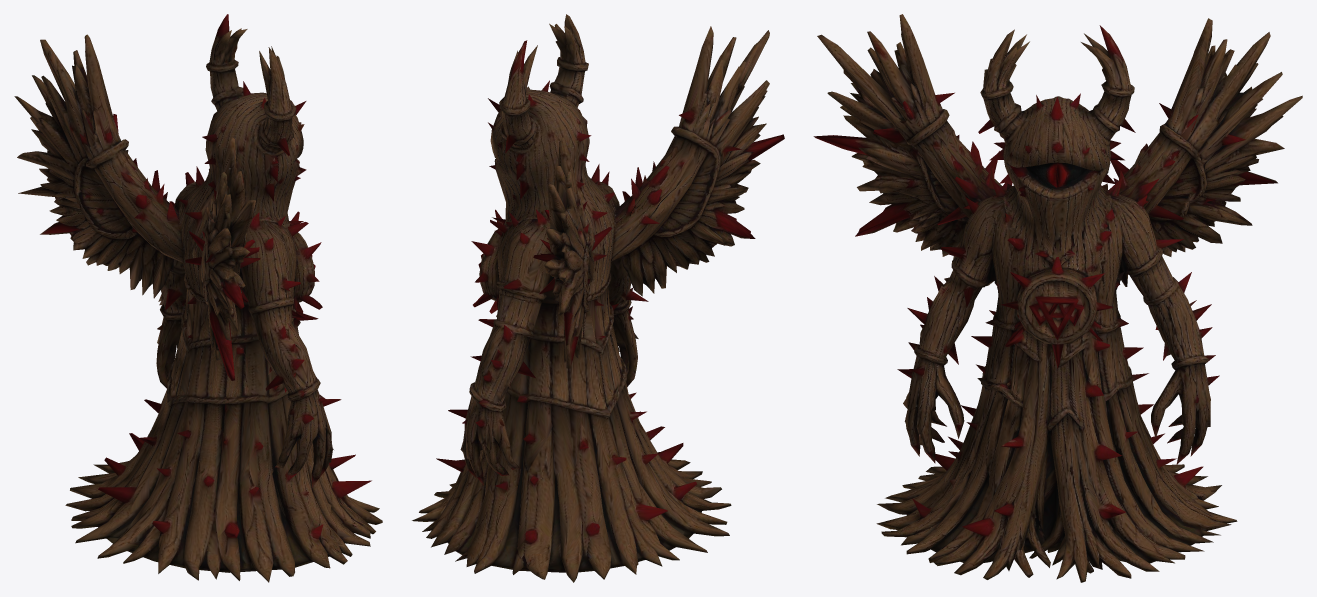
The model's file is Wicker-Cyclops.glb.
3 renders of one model, left to right at view 1: azimuth 30°, elevation 25°; view 2: azimuth 150°, elevation 25°; view 3: azimuth 270°, elevation 25°, orthographic. The views are drawn at different scales.
Parts seen in each view (by area): view 1: tripo_node_a61e2ebf-c9fd-41e8-9d4b-8667f1be9a69; view 2: tripo_node_a61e2ebf-c9fd-41e8-9d4b-8667f1be9a69; view 3: tripo_node_a61e2ebf-c9fd-41e8-9d4b-8667f1be9a69.
Boxes of the visible parts, x1,y1,x2,y2 form: tripo_node_a61e2ebf-c9fd-41e8-9d4b-8667f1be9a69: (14, 14, 382, 582); tripo_node_a61e2ebf-c9fd-41e8-9d4b-8667f1be9a69: (412, 14, 784, 582); tripo_node_a61e2ebf-c9fd-41e8-9d4b-8667f1be9a69: (813, 14, 1302, 582).
Bounding box in the file's own units: 0.5626 × 0.9837 × 0.8544.
1 material, 1 textured.
